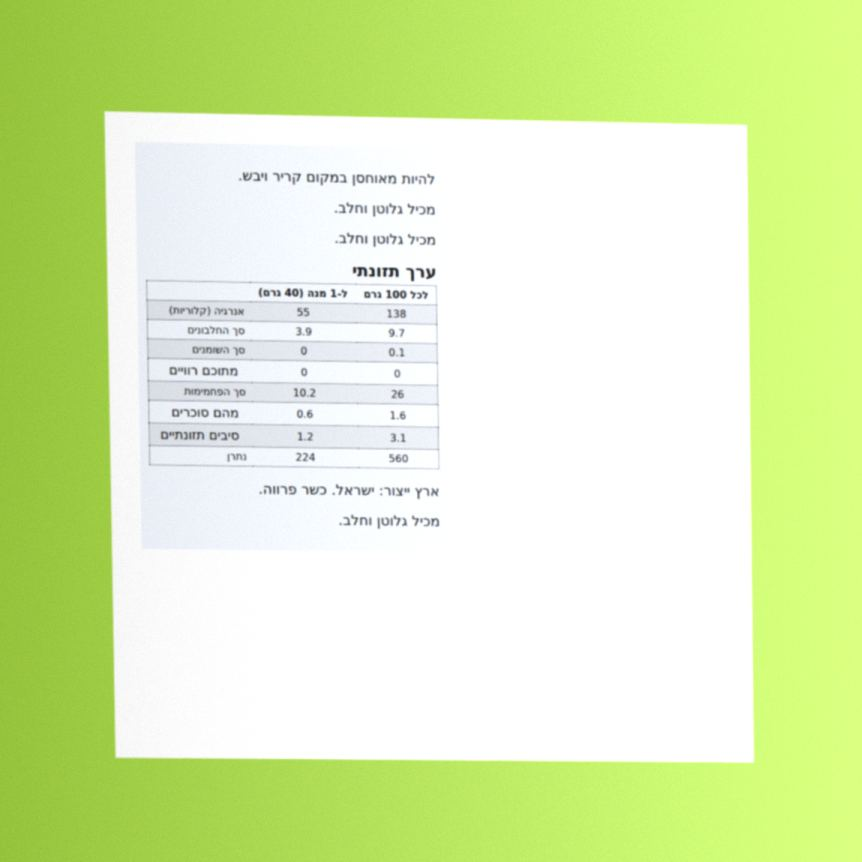carbs: (389, 387, 406, 402)
energy: (385, 306, 408, 322)
fat: (387, 345, 407, 360)
protein: (387, 325, 406, 341)
